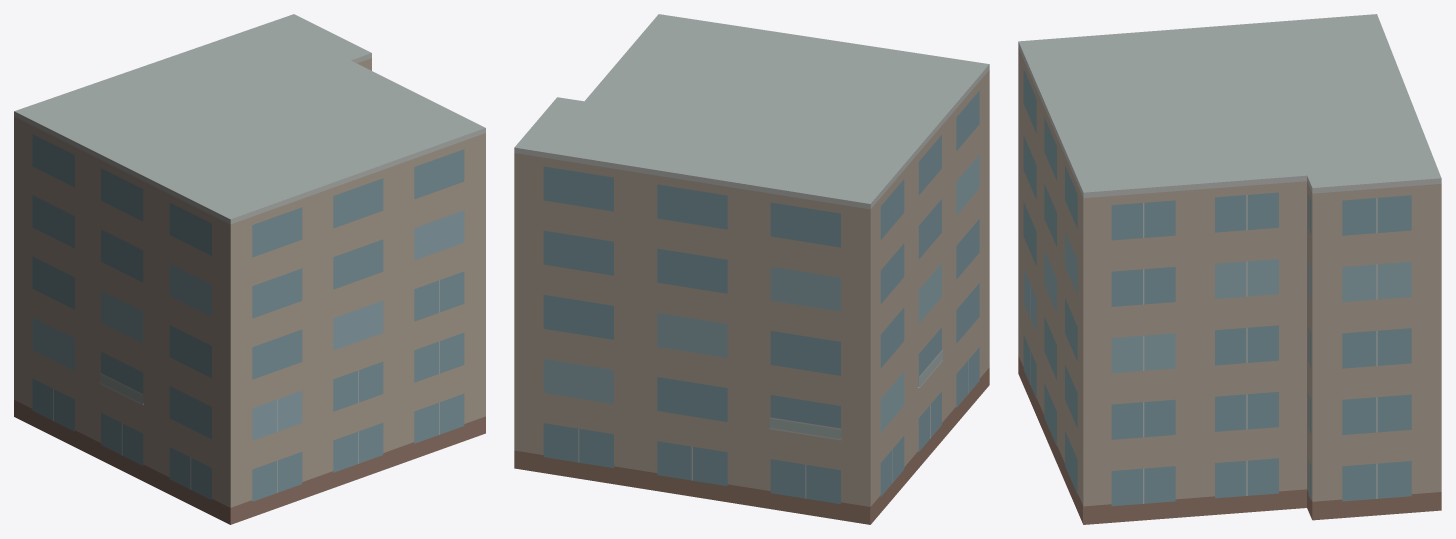
File: survey-upis-32738225.glb
3 renders of one model, left to right at view 1: azimuth 30°, elevation 25°; view 2: azimuth 150°, elevation 25°; view 3: azimuth 270°, elevation 25°, orthographic. The views are drawn at different scales.
Visible parts, largest first — view 1: survey-upis-32738225.tmp; view 2: survey-upis-32738225.tmp; view 3: survey-upis-32738225.tmp.
Part boxes in pixels (x1,y1,x2,y2): survey-upis-32738225.tmp: (14, 14, 485, 524); survey-upis-32738225.tmp: (514, 14, 989, 524); survey-upis-32738225.tmp: (1018, 14, 1441, 524).
Size of the model in its own units: 16.85 by 14.6 by 16.87.
